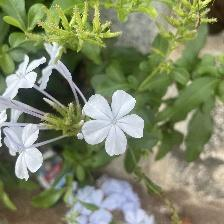chitrak: (85, 87, 146, 155), (3, 125, 46, 181), (5, 54, 46, 97), (42, 40, 64, 95)
